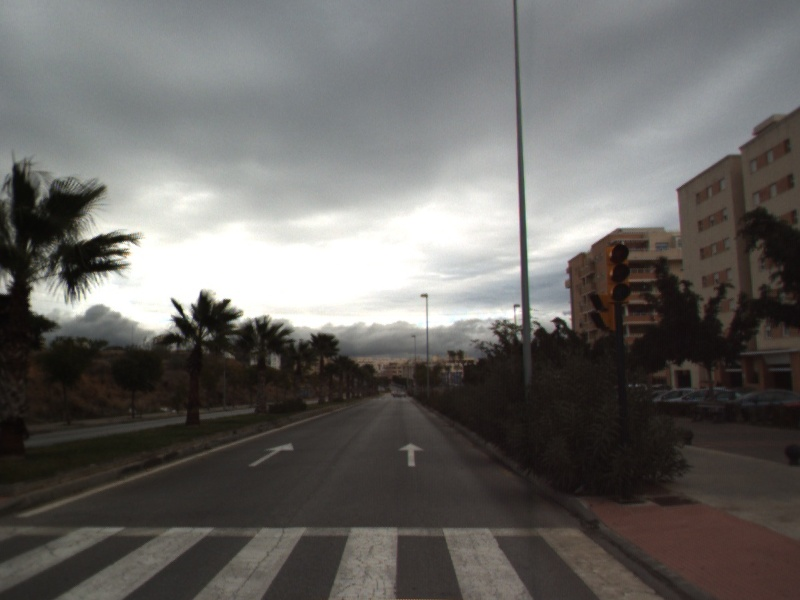STRAIGHT: (247, 440, 296, 468), (396, 441, 426, 468)
